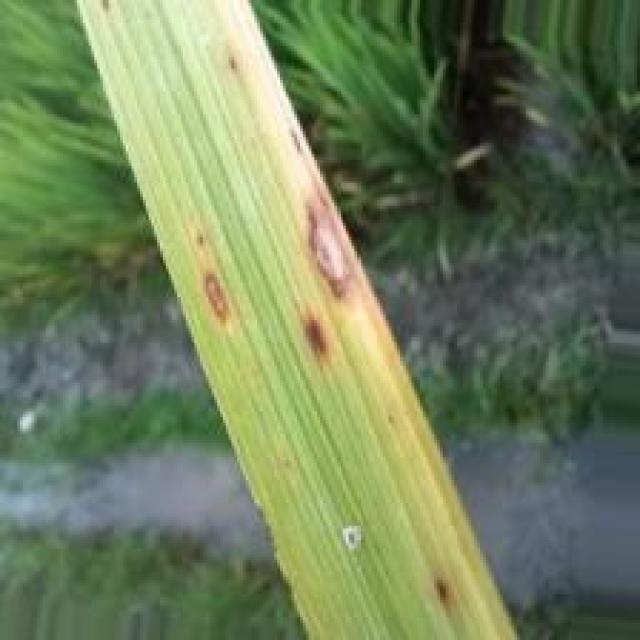Leaf_Blast: (269, 57, 394, 382), (187, 220, 230, 346)
